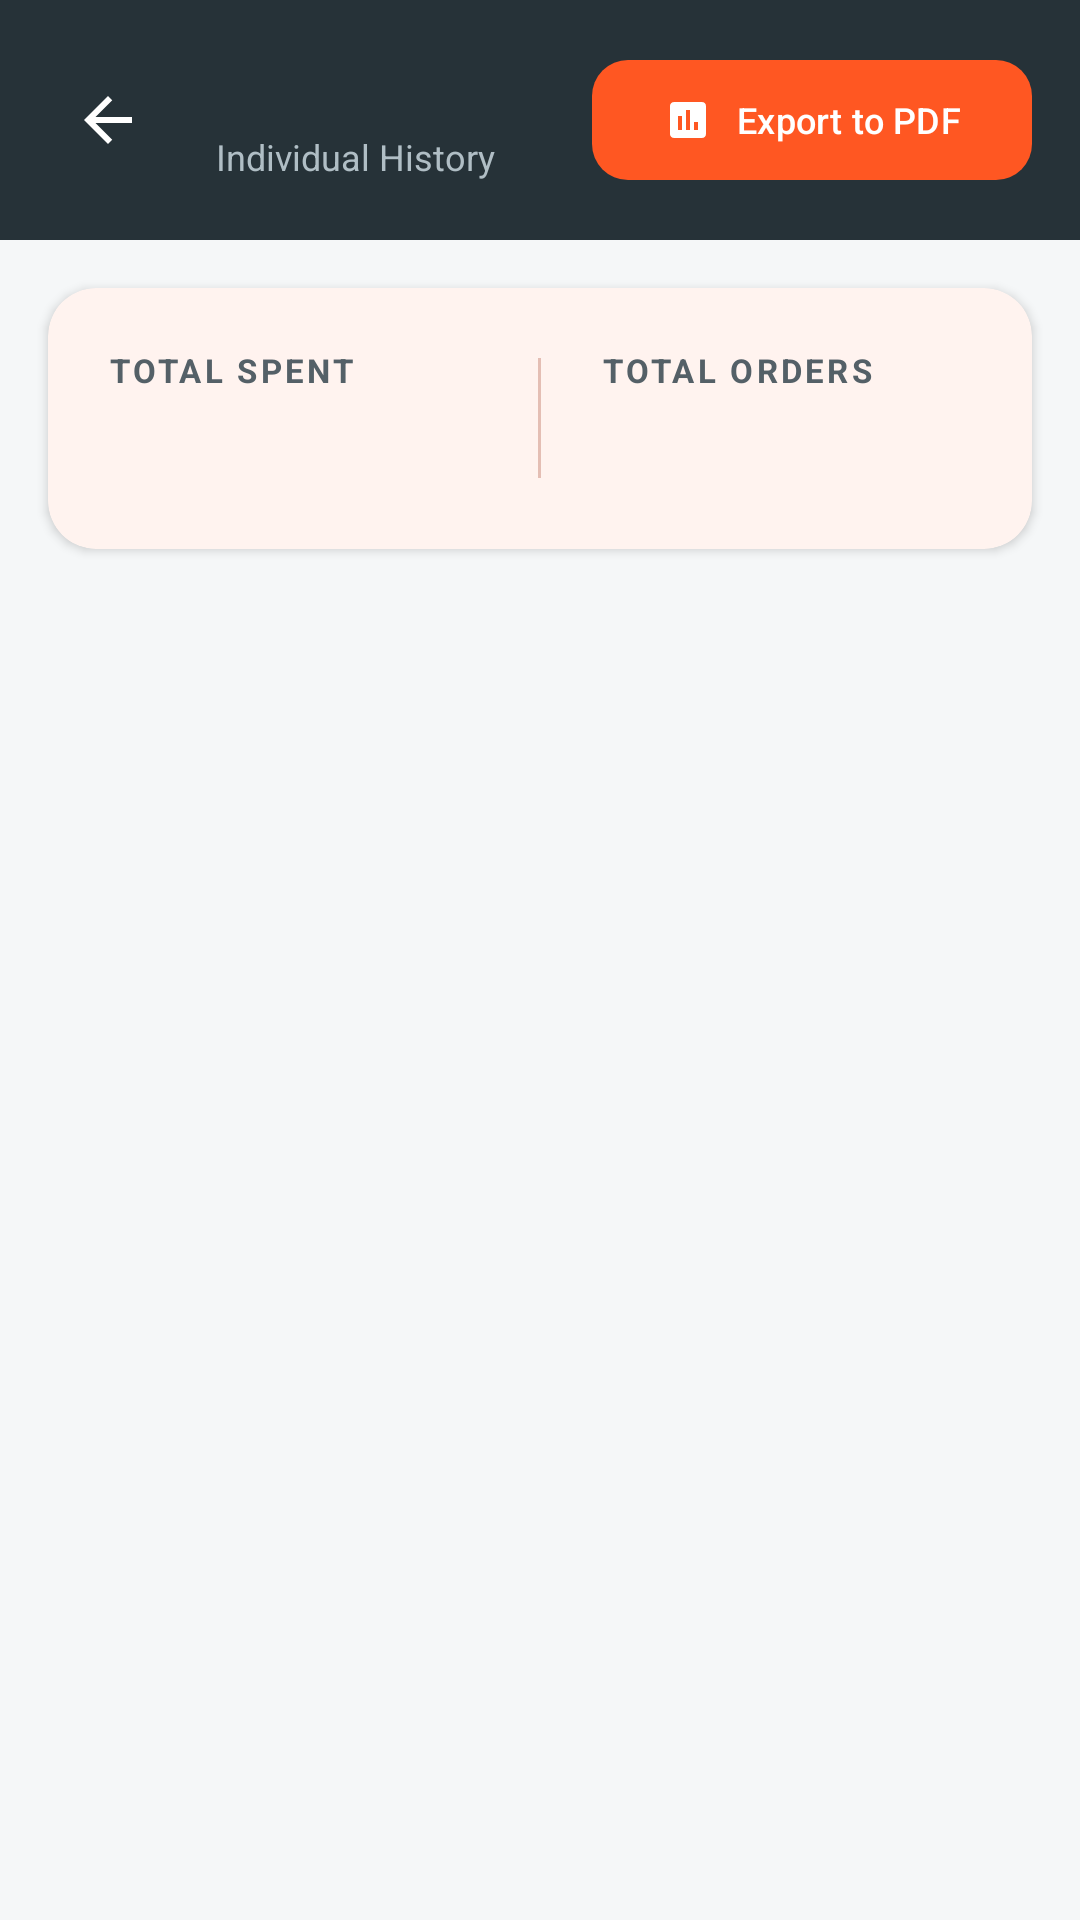

Icon click points for this 1080 × 1920 phone screenshot, format [x,y]:
Back: [108,120]
